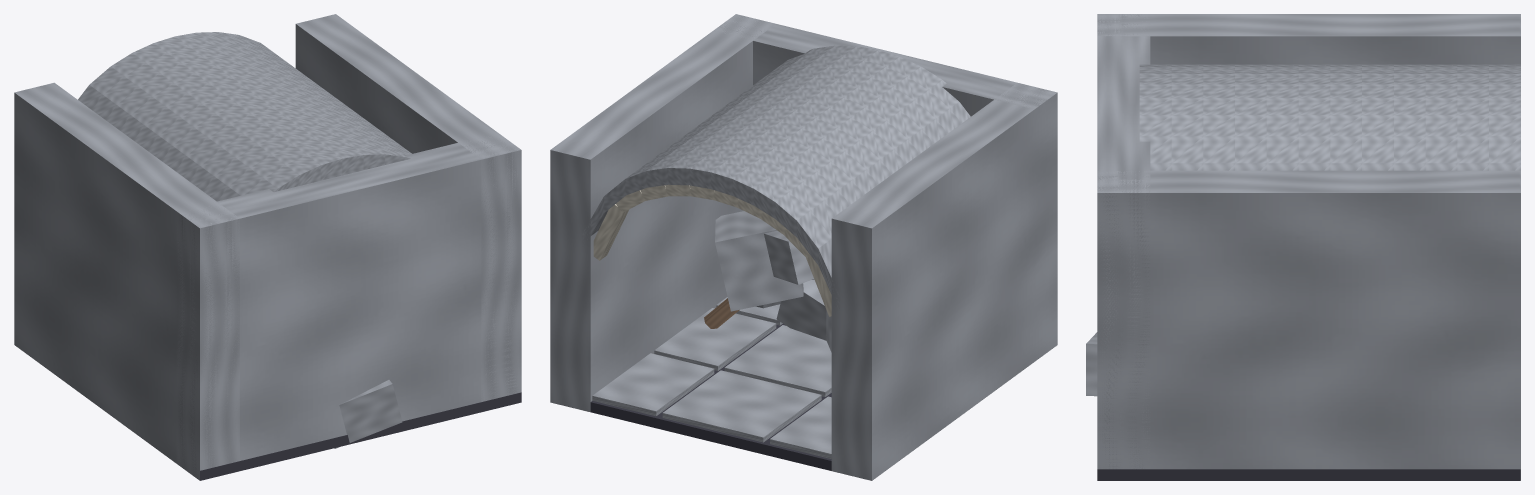
Rendered from vampire-crypt-and-gothic-cathedral-collapsed-passage-6aab12fb__22987.glb.
3 renders of one model, left to right at view 1: azimuth 30°, elevation 25°; view 2: azimuth 150°, elevation 25°; view 3: azimuth 270°, elevation 25°, orthographic. The views are drawn at different scales.
Parts seen in each view (by area): view 1: collapsed-passage; view 2: collapsed-passage; view 3: collapsed-passage.
Part boxes in pixels (x1=…): collapsed-passage: x1=14, y1=14, x2=521, y2=480; collapsed-passage: x1=550, y1=14, x2=1057, y2=480; collapsed-passage: x1=1086, y1=14, x2=1520, y2=480.
Bounding box in the file's own units: 4 × 3.25 × 4.11.
4 materials, 3 textured.
